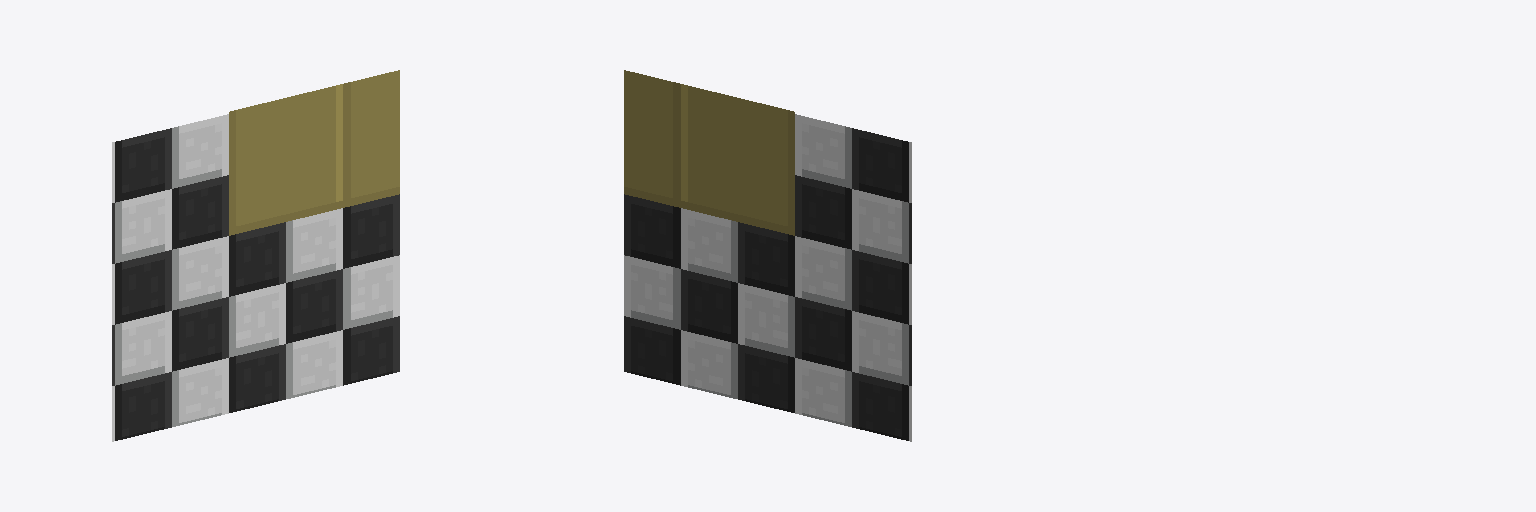
3 renders of one model, left to right at view 1: azimuth 30°, elevation 25°; view 2: azimuth 150°, elevation 25°; view 3: azimuth 270°, elevation 25°, orthographic.
Visible parts, largest first — view 1: Plane; view 2: Plane; view 3: none.
Boxes of the visible parts, x1,y1,x2,y2 form: Plane: [112, 70, 399, 441]; Plane: [624, 70, 911, 441].
Size of the model in its own units: 1 by 1 by 0.
Materials: 1 (1 with a texture image).